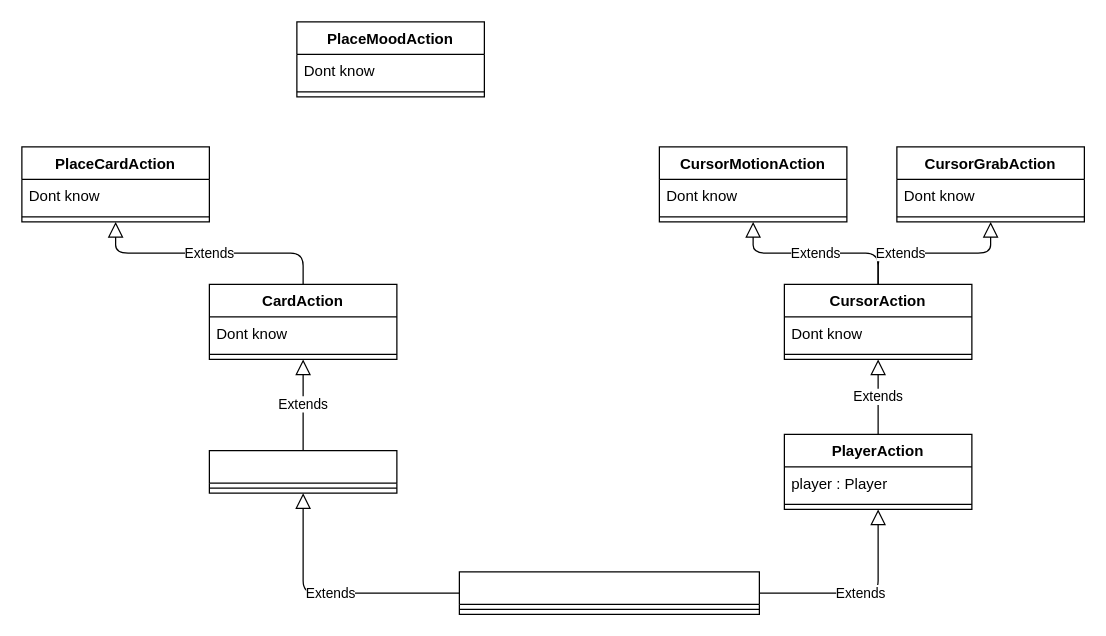
This 1106x636 diagram has some shape labels left out. Each missing label, with the centre of its shape:
"Action" goes at pixel 608 592.
"GamefieldAction" goes at pixel 302 471.
